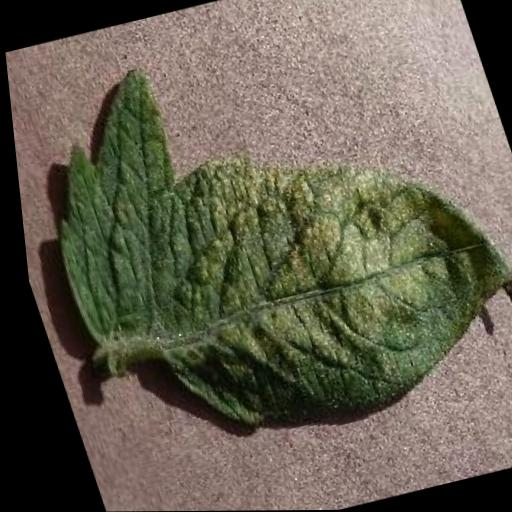Spider Mites: (0, 0, 512, 469)
